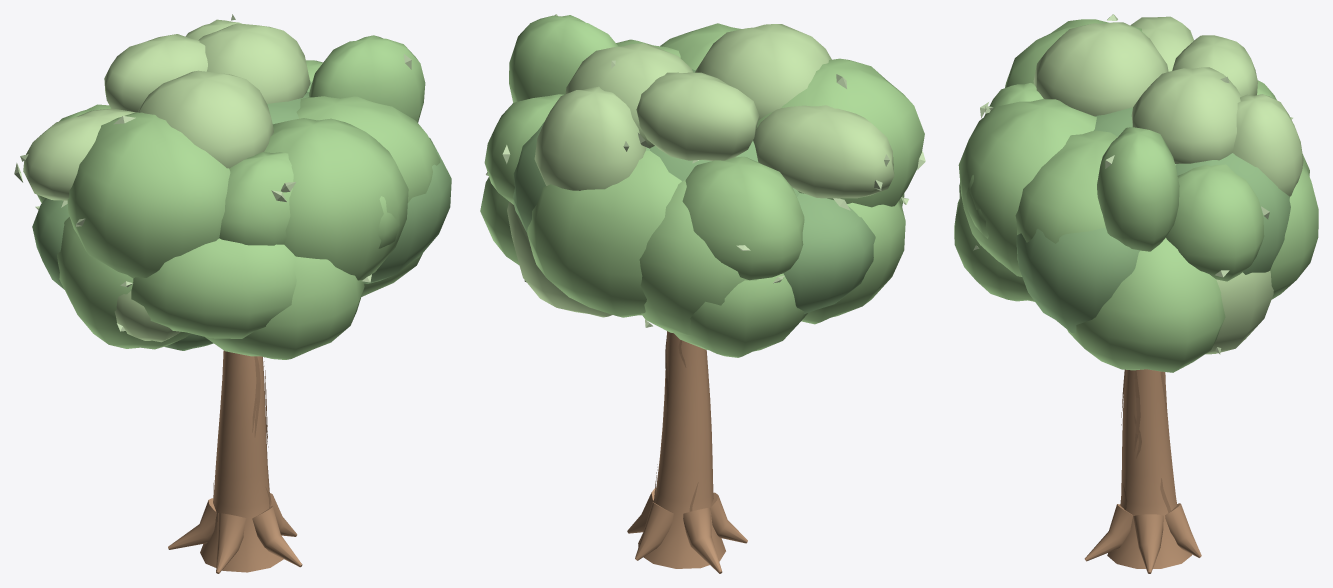
File: tree_03.fbx
The picture shows the model from 3 angles, left to right: view 1: azimuth 30°, elevation 25°; view 2: azimuth 150°, elevation 25°; view 3: azimuth 270°, elevation 25°; orthographic projection. The views are drawn at different scales.
Visible parts, largest first — view 1: CG_Tree_01_23C1E644_Geometry; view 2: CG_Tree_01_23C1E644_Geometry; view 3: CG_Tree_01_23C1E644_Geometry.
Part boxes in pixels (x1,y1,x2,y2): CG_Tree_01_23C1E644_Geometry: [14, 14, 451, 573]; CG_Tree_01_23C1E644_Geometry: [480, 14, 925, 573]; CG_Tree_01_23C1E644_Geometry: [954, 14, 1318, 573].
Size of the model in its own units: 517 by 634 by 423.
